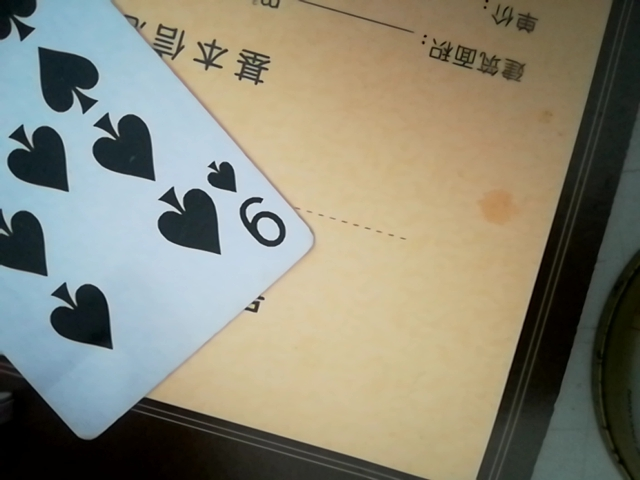ht 9: (1, 0, 320, 463)
